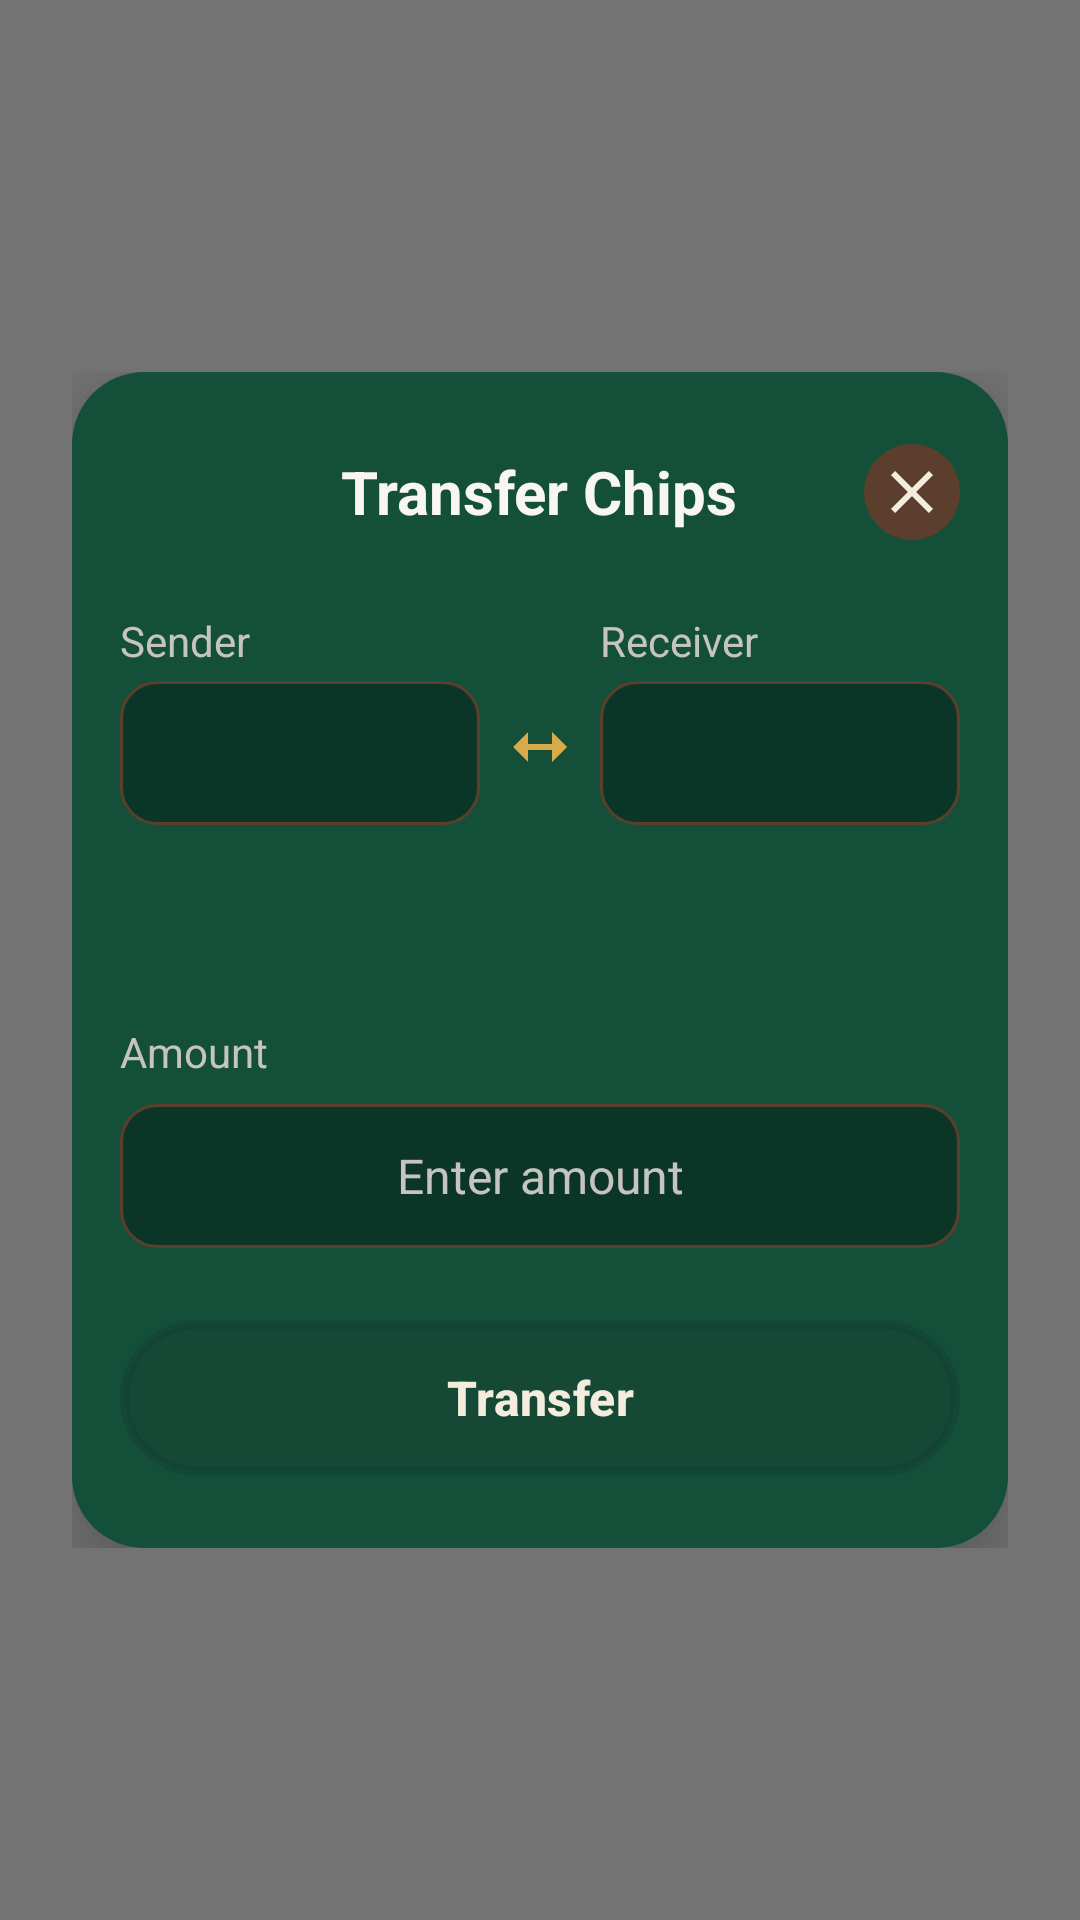

Where to tap for icons on this 1080 × 1920 app screen, as (x,y):
Close: (912,492)
transfer: (540,747)
